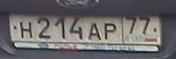license-plateSW: (9, 11, 164, 44)
